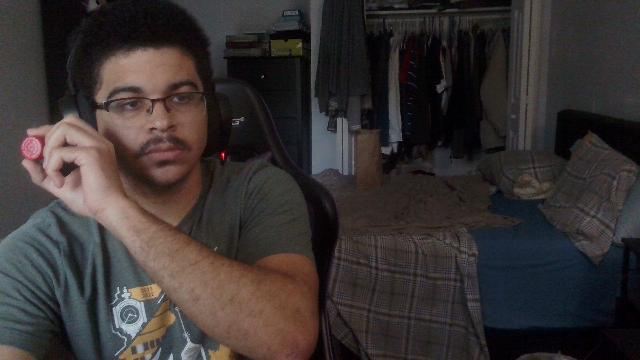cap: (22, 135, 44, 161)
